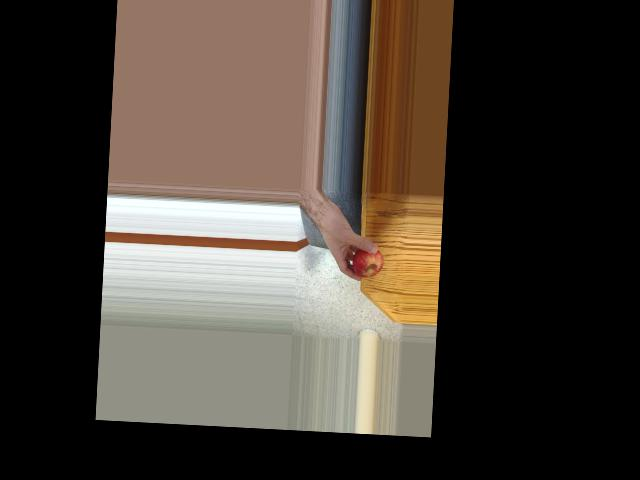apple: (350, 245, 382, 279)
